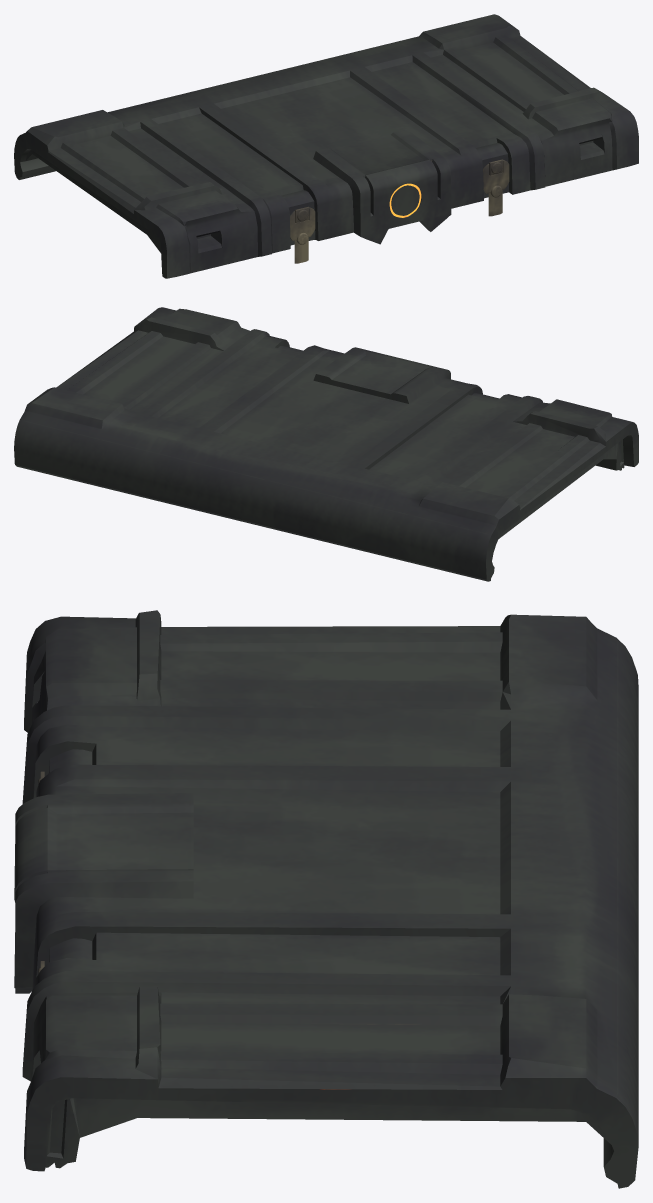
File: stash_lid.glb
3 views of the same model, one above another, from view 1: azimuth 30°, elevation 25°; view 2: azimuth 150°, elevation 25°; view 3: azimuth 270°, elevation 25° (orthographic). The views are drawn at different scales.
Visible parts, largest first — view 1: stash.001; view 2: stash.001; view 3: stash.001.
Part boxes in pixels (<box>): stash.001: <box>14,14,638,278</box>; stash.001: <box>14,307,638,581</box>; stash.001: <box>14,610,638,1188</box>.
Bounding box in the file's own units: 1.54 × 0.2346 × 0.8799.
Materials: 1 (1 with a texture image).
